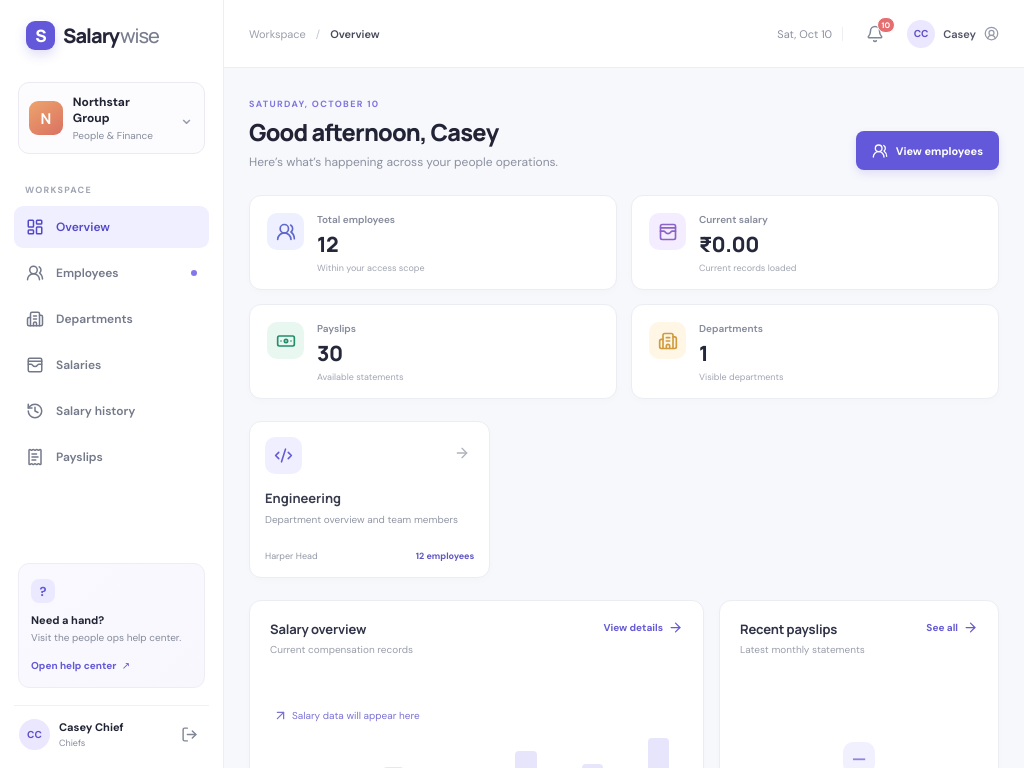
employee, department, salary, payslip and profile flows › navigates overview cards through router links and keeps sidebar selection in sync
The image size is (1024, 768).
Click the link with aria-label "Total employees: 12".
click(286, 232)  # box [249,195,617,290]
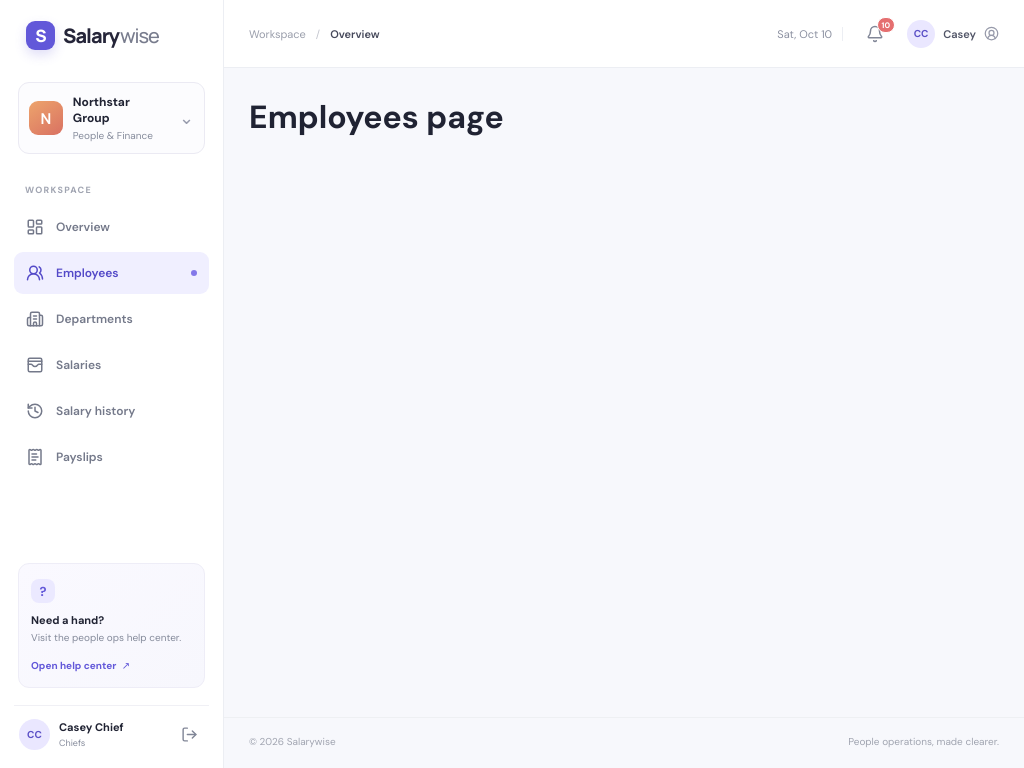
Expected: the heading "Employees page" is shown, [249,96,504,138]
